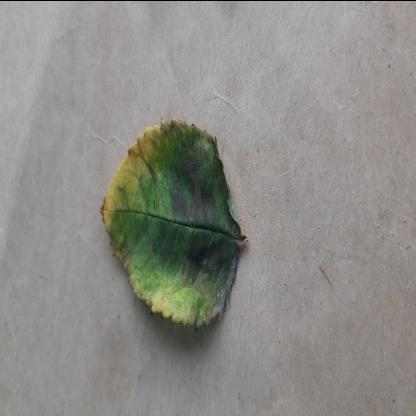downy-mildew: (99, 116, 241, 334)
